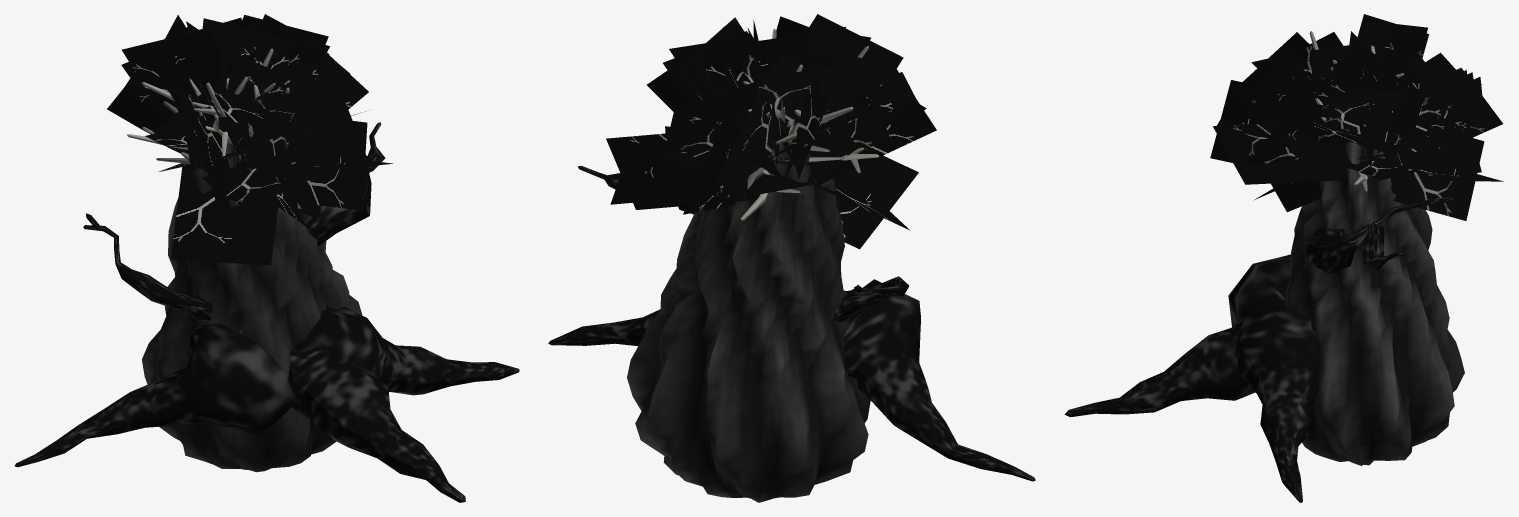
File: ZonTreeDead03.glb
The picture shows the model from 3 angles, left to right: view 1: azimuth 30°, elevation 25°; view 2: azimuth 150°, elevation 25°; view 3: azimuth 270°, elevation 25°; orthographic projection. The views are drawn at different scales.
Parts seen in each view (by area): view 1: ZonTreeDead03_limbs; view 2: ZonTreeDead03_limbs; view 3: ZonTreeDead03_limbs.
Part boxes in pixels (bbox=[...]): ZonTreeDead03_limbs: bbox=[14, 14, 519, 502]; ZonTreeDead03_limbs: bbox=[548, 14, 1035, 502]; ZonTreeDead03_limbs: bbox=[1064, 14, 1503, 502].
Bounding box in the file's own units: 6.89 × 6.07 × 5.87.
Materials: 4 (3 with a texture image).
